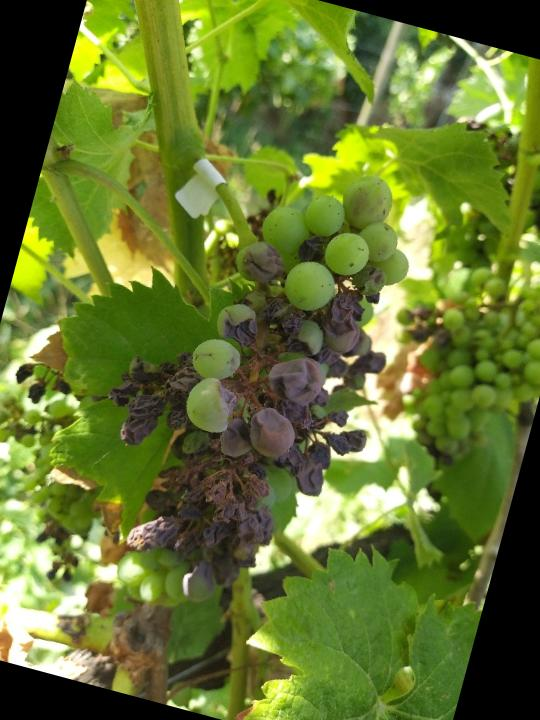grape: (54, 122, 439, 655)
